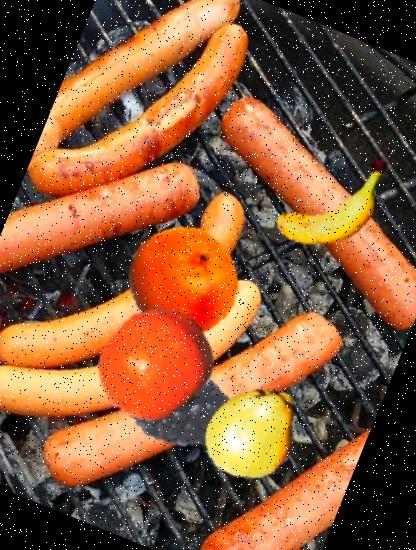Banana: (255, 126, 409, 280)
Clementine: (80, 290, 232, 442)
Grapefruit: (110, 208, 254, 352)
Mulberry: (90, 319, 248, 477)
Quince: (186, 366, 317, 497)
